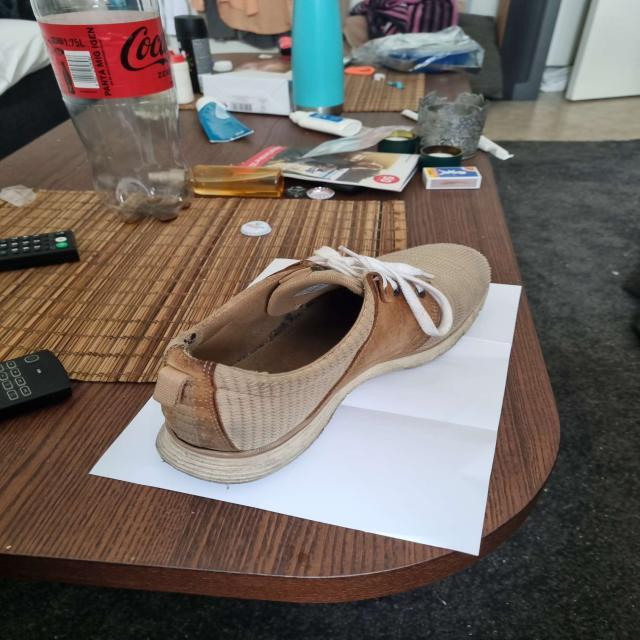shoe: (149, 241, 493, 486)
